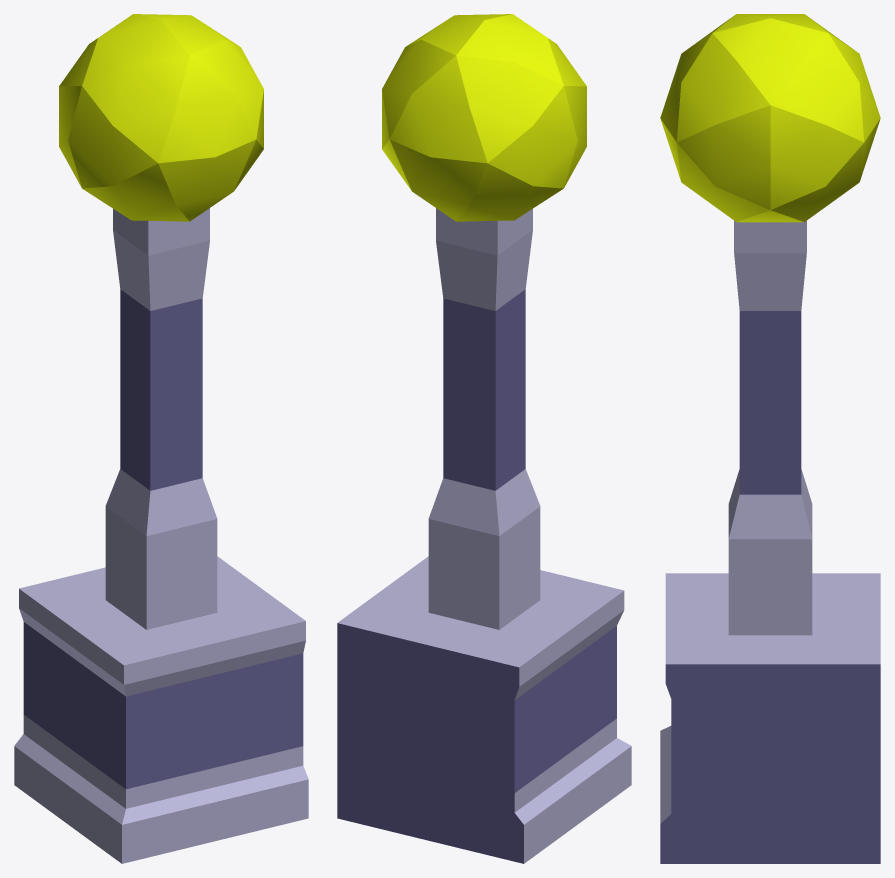
File: tower.fbx
3 renders of one model, left to right at view 1: azimuth 30°, elevation 25°; view 2: azimuth 150°, elevation 25°; view 3: azimuth 270°, elevation 25°, orthographic. The views are drawn at different scales.
Parts seen in each view (by area): view 1: mergedBlocks; view 2: mergedBlocks; view 3: mergedBlocks.
Boxes of the visible parts, x1,y1,x2,y2 form: mergedBlocks: [14, 14, 308, 863]; mergedBlocks: [337, 14, 631, 863]; mergedBlocks: [660, 14, 880, 863].
Bounding box in the file's own units: 10 × 40 × 10.
